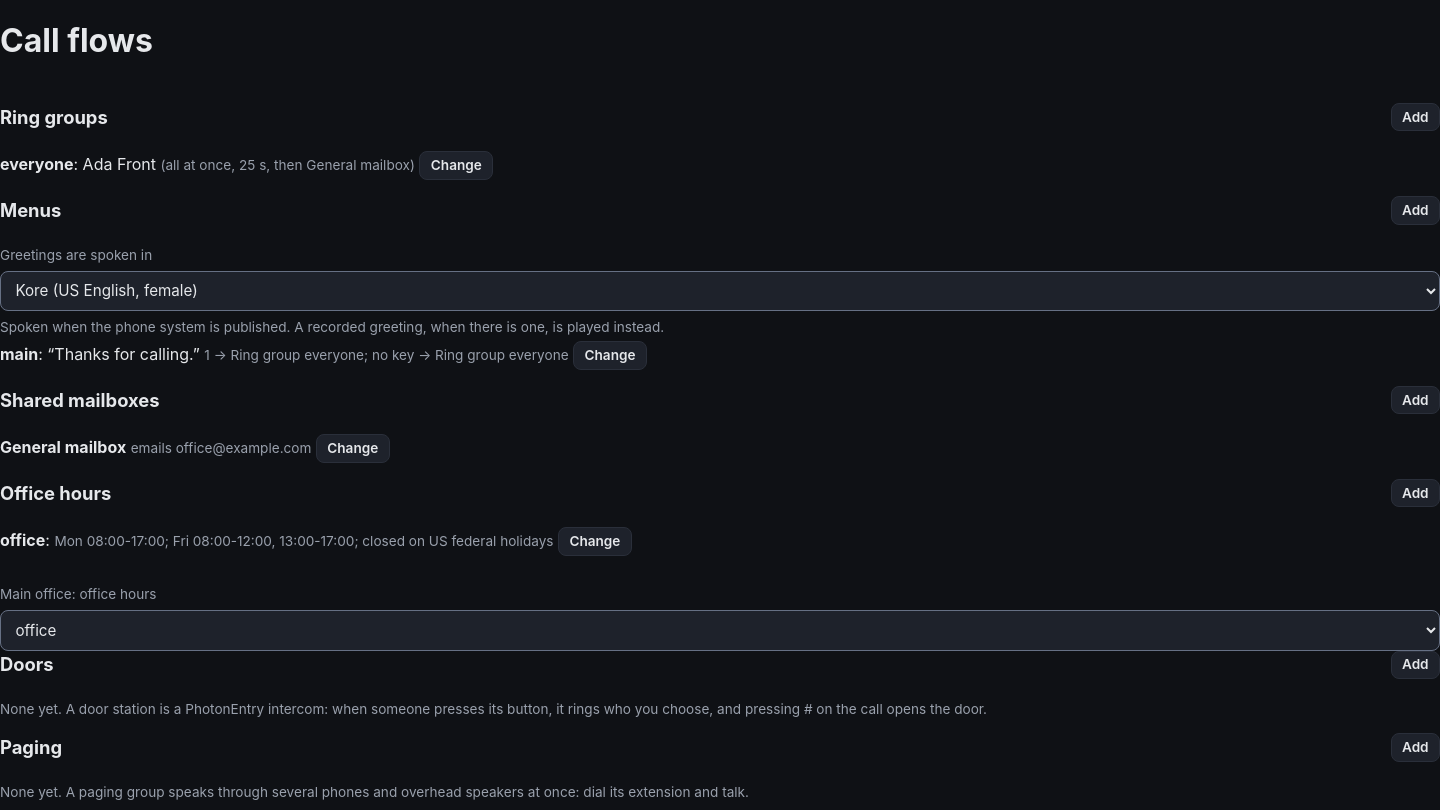
Test: call flows › renames a ring group, changes who it rings, and the menu follows
Click the button with aria-label "Change everyone": (456, 166) [419,152,493,180]
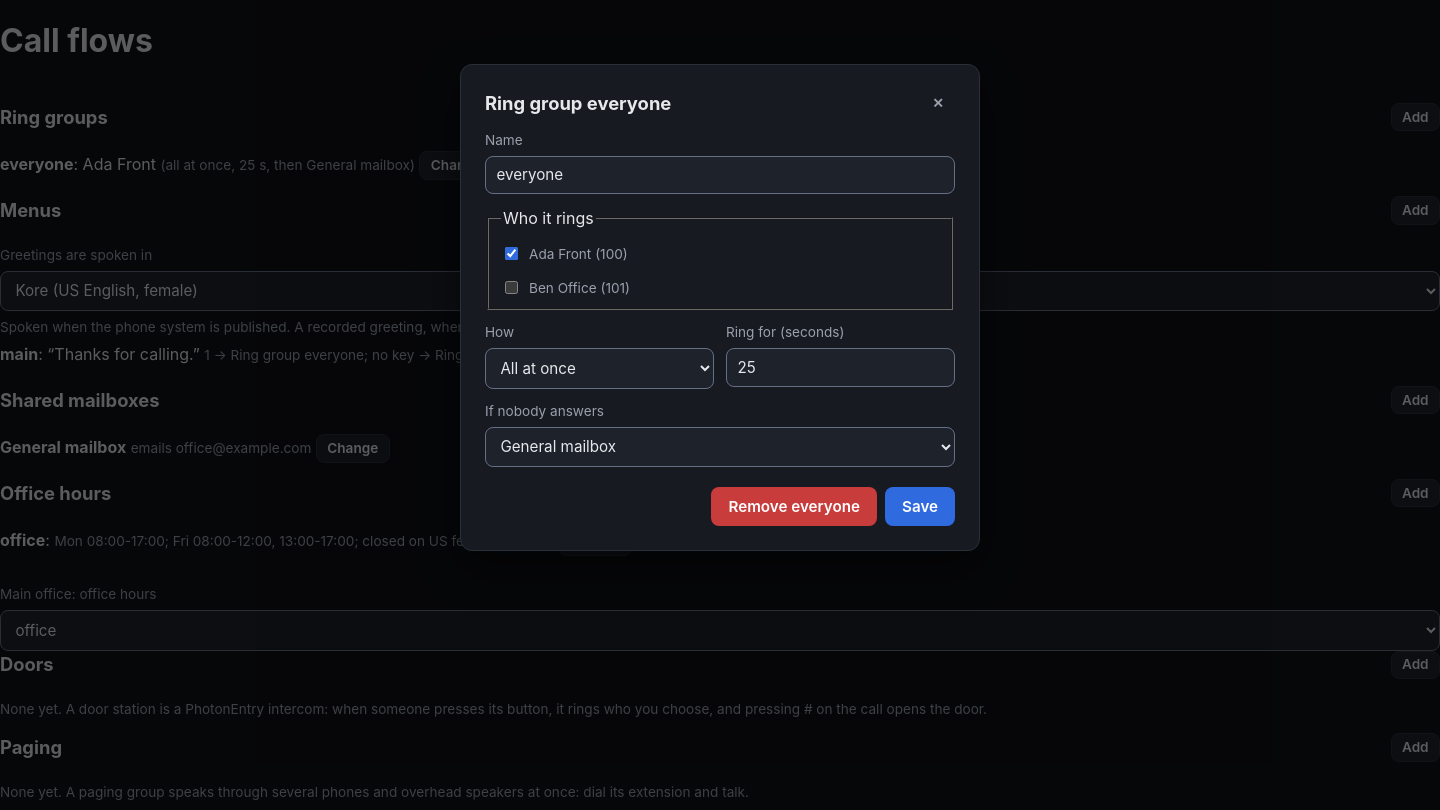
Replace the text in the field labelled "Name" with "Front Desk": (720, 175) [485,156,955,194]
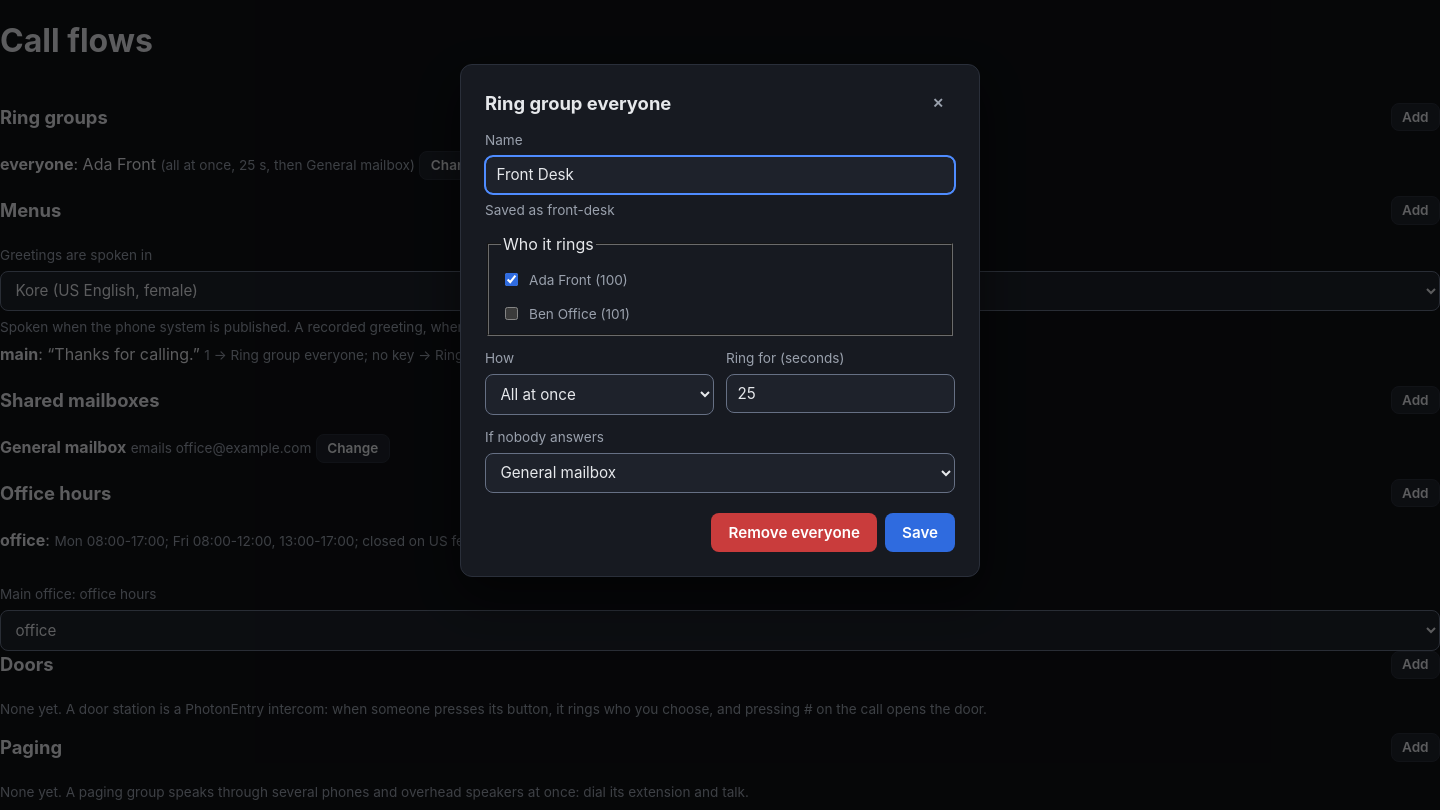
Click the checkbox labelled "Ben Office (101)": (512, 314) [505,307,518,320]
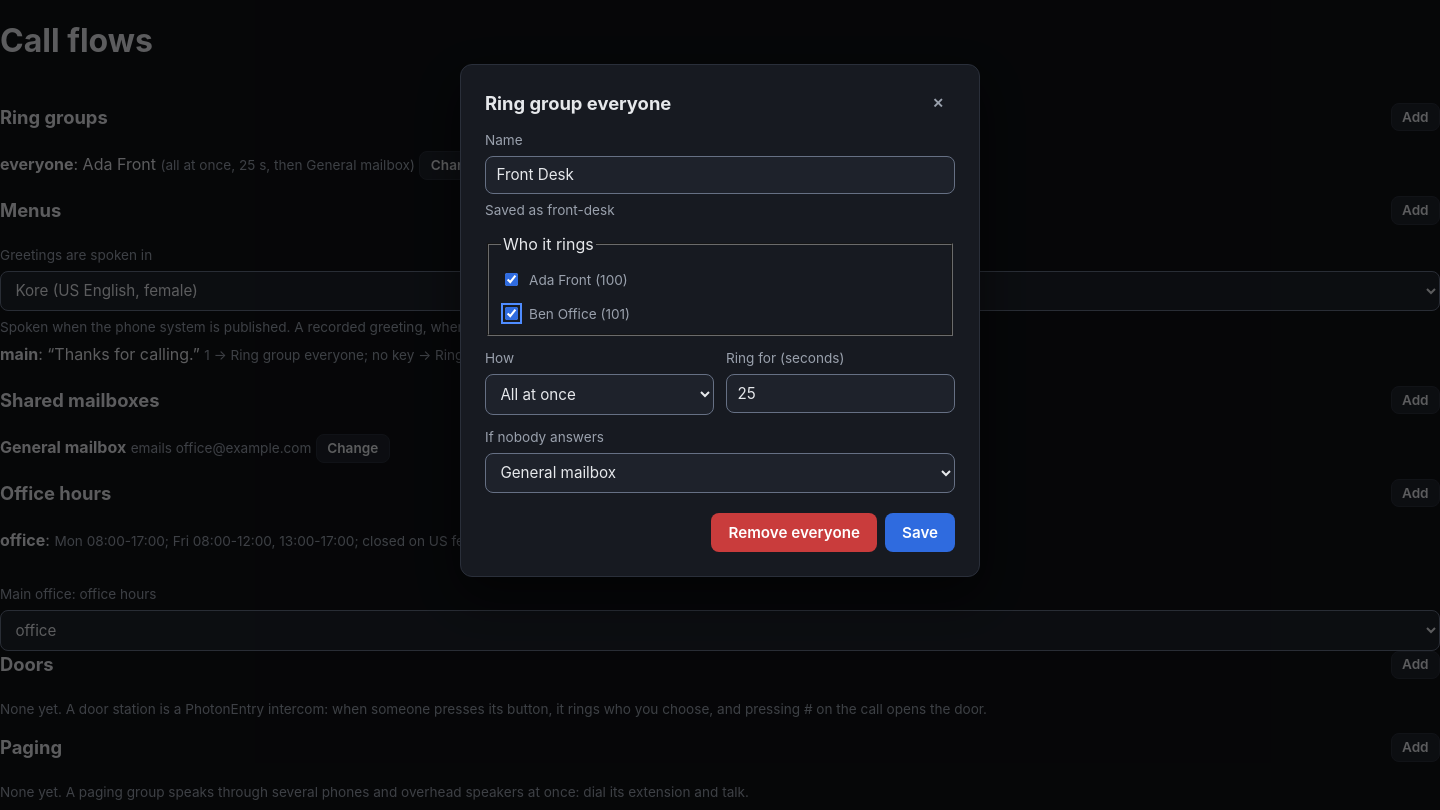
Select "One after another" in the dropdown labelled "How": (600, 394) [485,374,714,415]
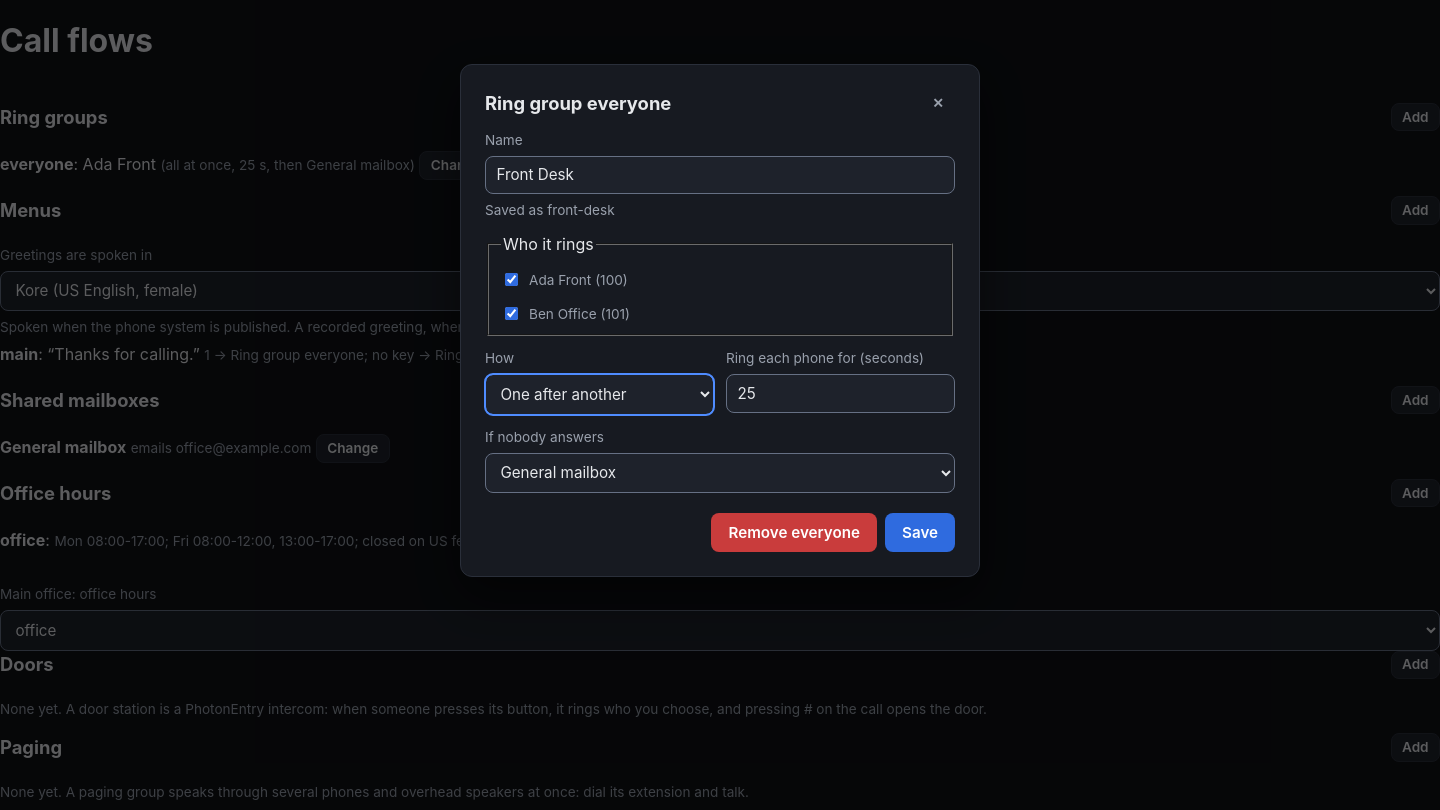
Now the number field labelled "Ring each phone for (seconds)" holds "25", box [726,374,955,413]
Select "Hang up" in the dropdown labelled "If nobody answers": (720, 473) [485,453,955,493]
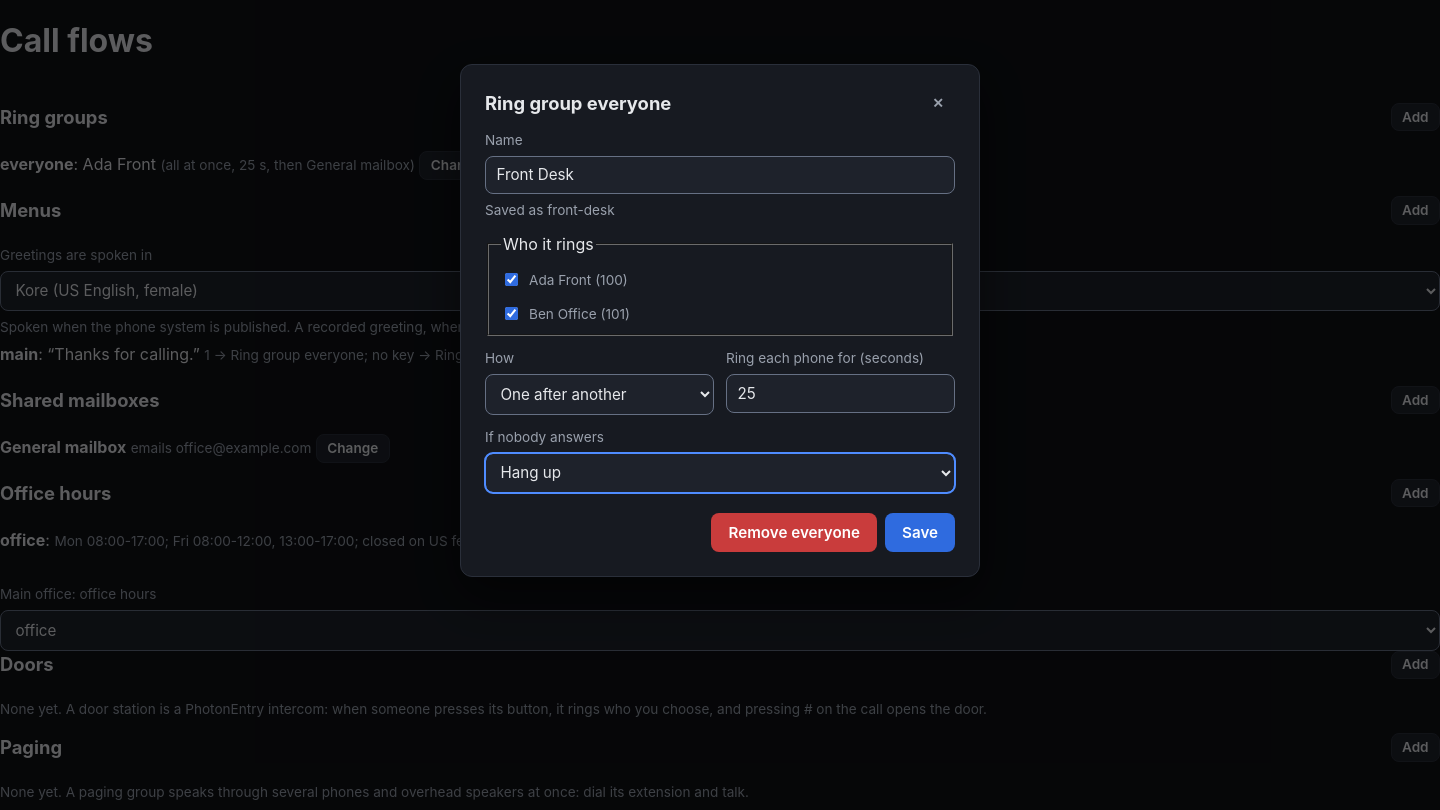
Click the button "Save": (920, 533) [885,513,955,552]
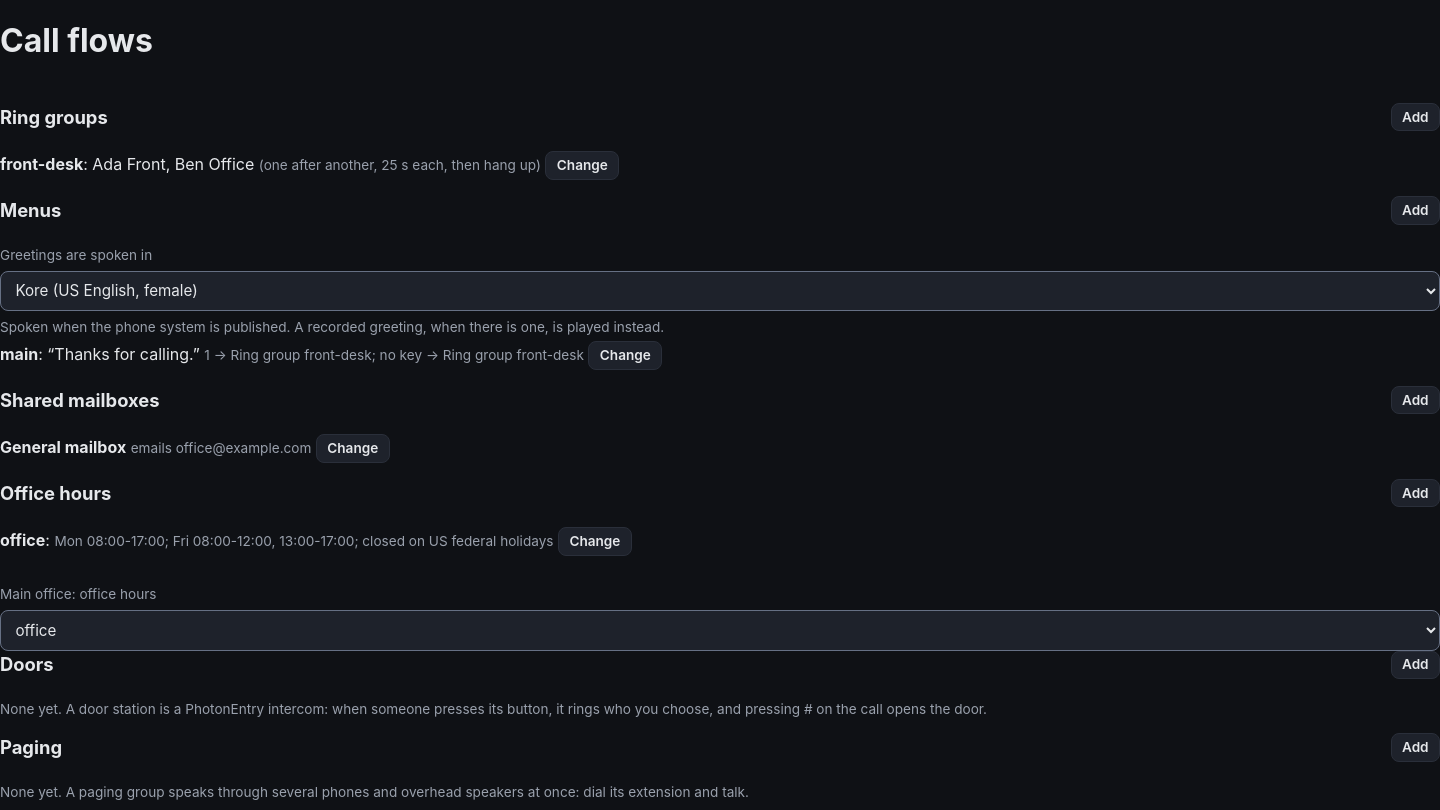
Now the text "(one after another, 25 s each, then hang up)" is shown, box [259,157,541,173]
